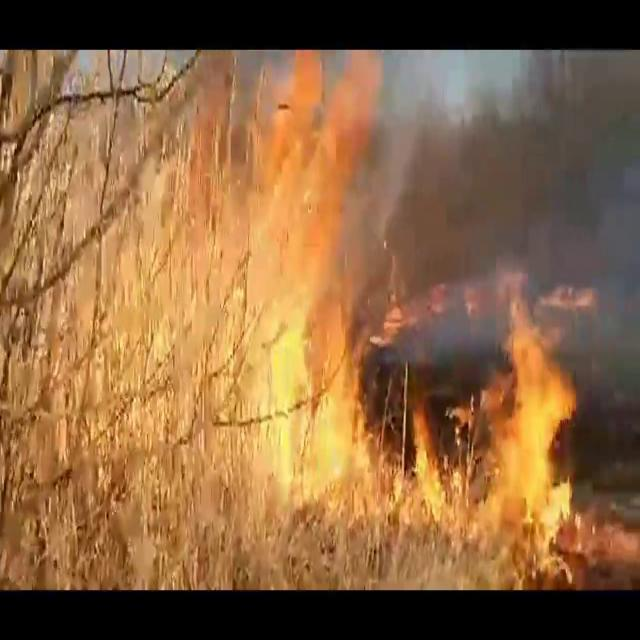Fire: (183, 49, 387, 518), (449, 271, 598, 577)
Smoke: (362, 50, 640, 411)
